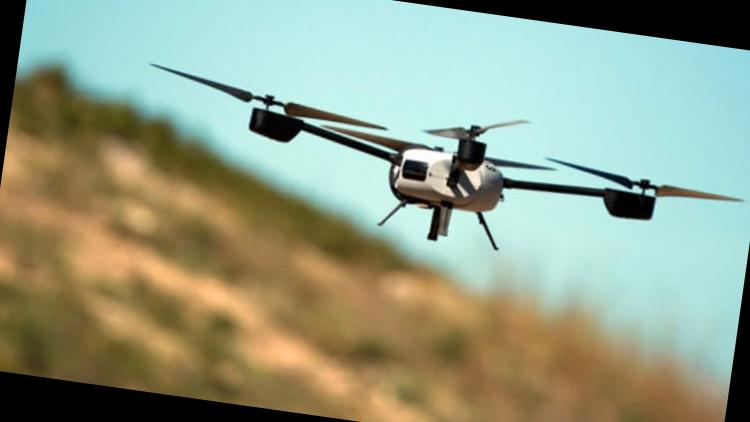drone: (126, 41, 750, 273)
